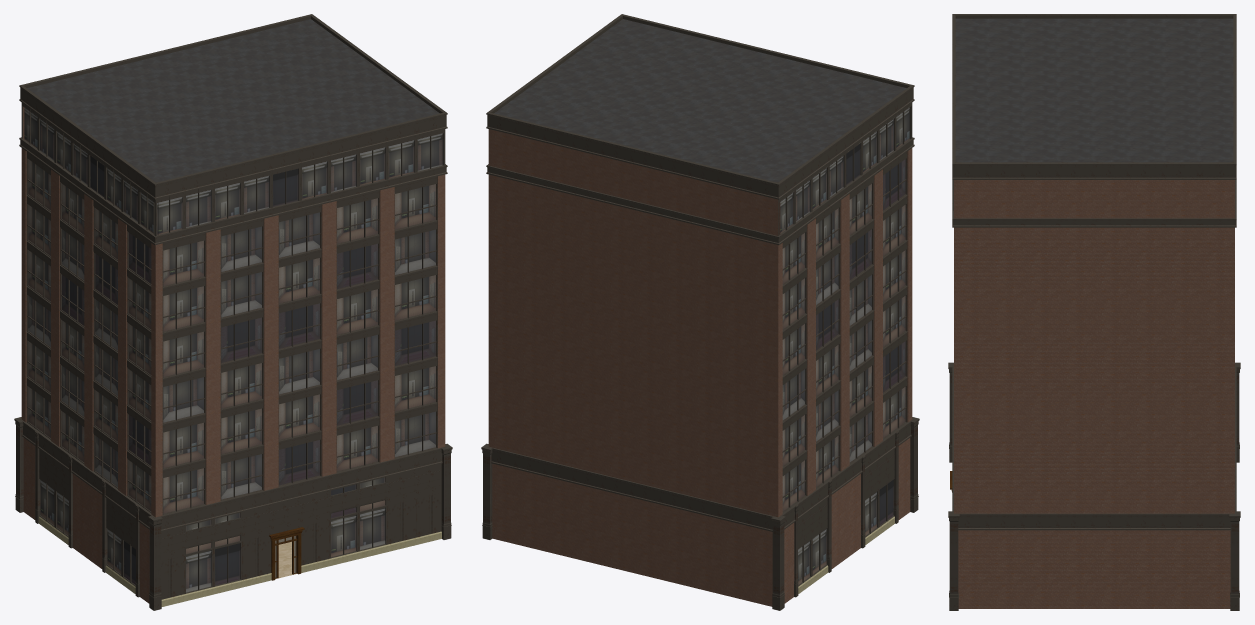
File: Building_Large_2.gltf
The picture shows the model from 3 angles, left to right: view 1: azimuth 30°, elevation 25°; view 2: azimuth 150°, elevation 25°; view 3: azimuth 270°, elevation 25°; orthographic projection. The views are drawn at different scales.
Visible parts, largest first — view 1: Building_Large_2; view 2: Building_Large_2; view 3: Building_Large_2.
Boxes of the visible parts, x1,y1,x2,y2 form: Building_Large_2: (14,14,452,610); Building_Large_2: (481,14,919,610); Building_Large_2: (948,14,1240,610).
Size of the model in its own units: 20.64 by 28 by 16.64.
12 materials, 11 textured.
